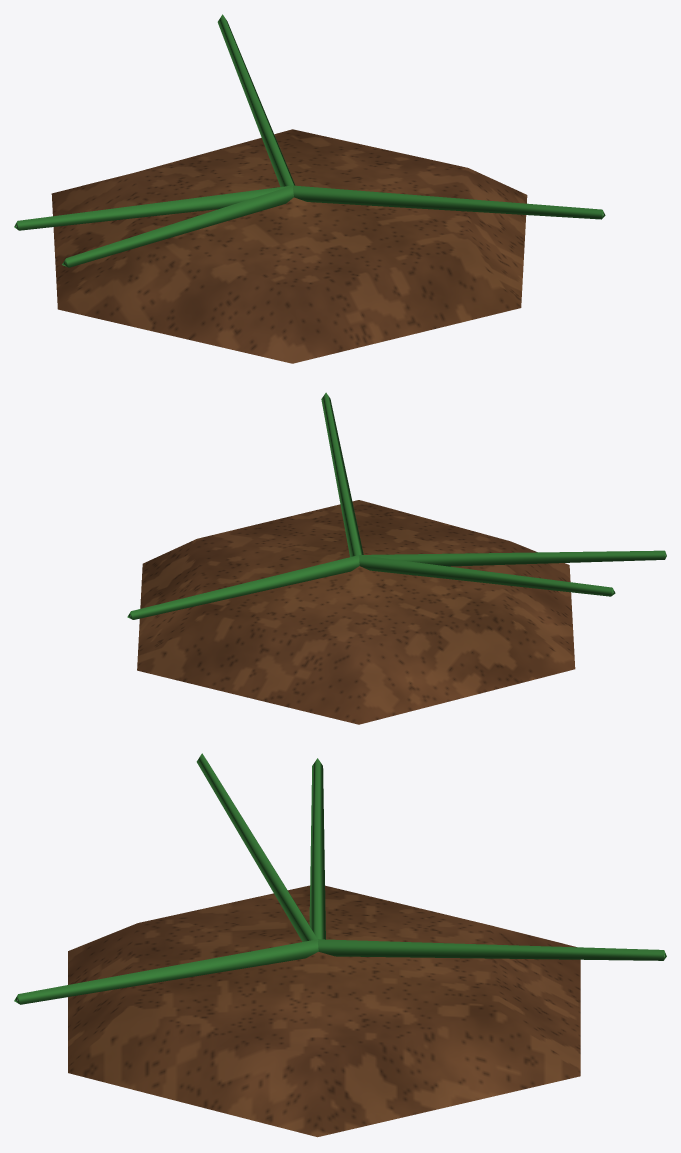
Rendered from plant-watermelon-2-far.glb.
3 renders of one model, top to bottom at view 1: azimuth 30°, elevation 25°; view 2: azimuth 150°, elevation 25°; view 3: azimuth 270°, elevation 25°, orthographic. The views are drawn at different scales.
Parts seen in each view (by area): view 1: plant-watermelon-2-far; view 2: plant-watermelon-2-far; view 3: plant-watermelon-2-far.
Boxes of the visible parts, left/top/right/bottom form: plant-watermelon-2-far: left=14, top=14, right=605, bottom=363; plant-watermelon-2-far: left=127, top=392, right=666, bottom=724; plant-watermelon-2-far: left=14, top=753, right=666, bottom=1137.
Bounding box in the file's own units: 1.17 × 0.1725 × 0.9265.
3 materials, 1 textured.
